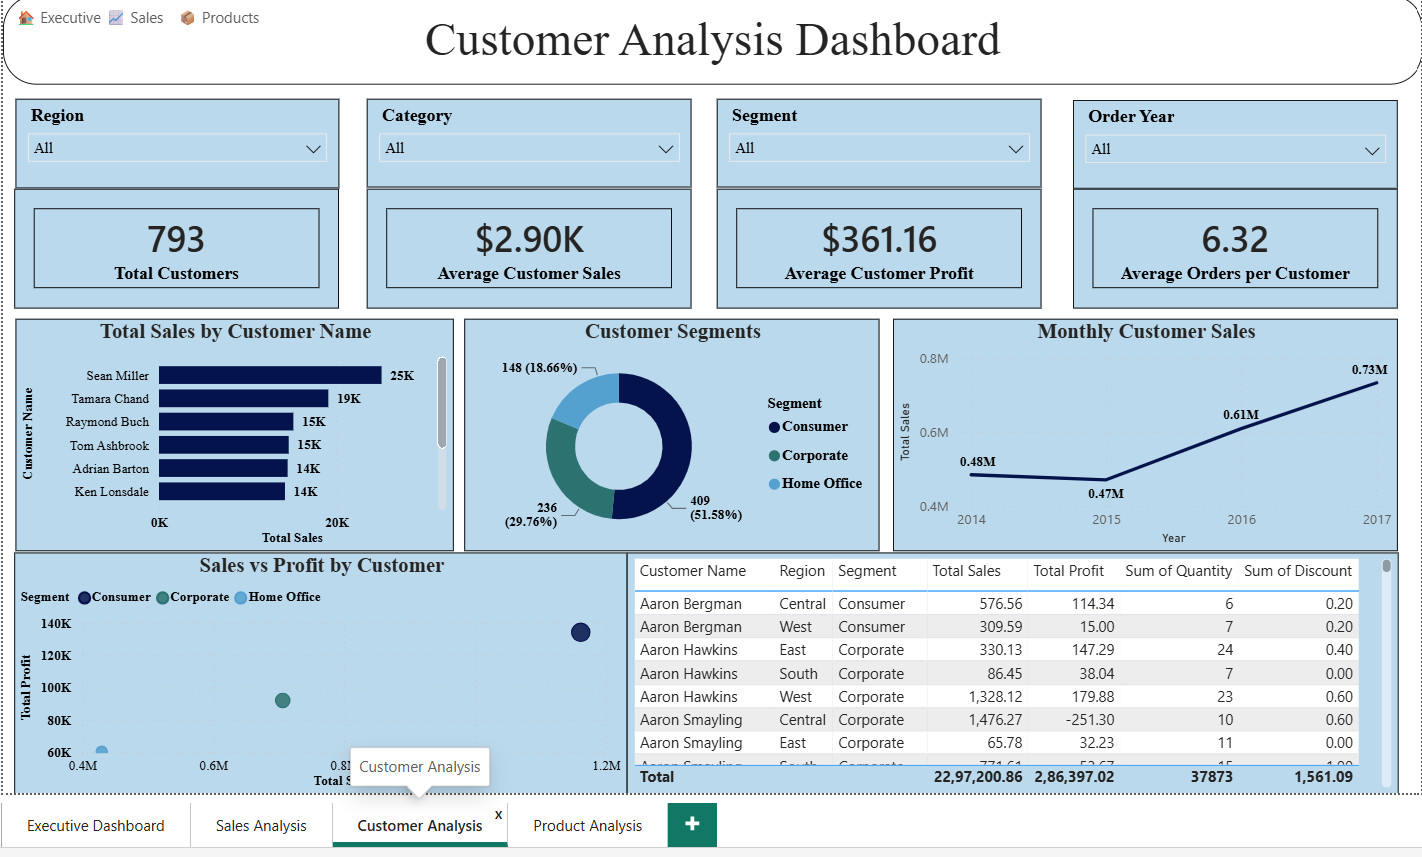

The dashboard page shown, as its layout file describes it:
{"tool":"powerbi","page":{"name":"Customer Analysis","canvas":[1280,720],"ordinal":2},"visuals":[{"type":"textbox","box":[0,0,1280.4,81.2],"z":0},{"type":"slicer","fields":{"Values":["processed_superstore.Region"]},"box":[11.3,93.6,291.9,81.2],"z":1000},{"type":"slicer","fields":{"Values":["processed_superstore.Category"]},"box":[328,93.6,293.1,80],"z":2000},{"type":"slicer","fields":{"Values":["processed_superstore.Segment"]},"box":[643.6,93.6,293.1,80],"z":3000},{"type":"slicer","fields":{"Values":["processed_superstore.Order Year"]},"box":[964.8,94.7,293.1,80],"z":4000},{"type":"cardVisual","fields":{"Data":["processed_superstore.Total Customers"]},"box":[10.5,174.4,293,108.1],"z":5000},{"type":"cardVisual","fields":{"Data":["processed_superstore.Average Customer Sales"]},"box":[328,174.7,293.1,108.2],"z":6000},{"type":"cardVisual","fields":{"Data":["processed_superstore.Average Customer Profit"]},"box":[643.6,174.7,293.1,108.2],"z":7000},{"type":"cardVisual","fields":{"Data":["processed_superstore.Average Orders per Customer"]},"box":[964.8,174.7,293.1,108.2],"z":8000},{"type":"clusteredBarChart","fields":{"Category":["processed_superstore.Customer Name"],"Y":["processed_superstore.Total Sales"]},"box":[11,292.3,395.2,209.9],"z":9000},{"type":"donutChart","title":"Customer Segments","fields":{"Category":["processed_superstore.Segment"],"Y":["Count(processed_superstore.Customer ID)"]},"box":[415.8,292.3,374.6,209.9],"z":10000},{"type":"lineChart","title":"Monthly Customer Sales","fields":{"Category":["processed_superstore.Order Date.Variation.Date Hierarchy.Year","processed_superstore.Order Date.Variation.Date Hierarchy.Month"],"Y":["processed_superstore.Total Sales"]},"box":[802.7,292.3,455.6,209.9],"z":11000},{"type":"scatterChart","title":"Sales vs Profit by Customer","fields":{"X":["processed_superstore.Total Sales"],"Y":["processed_superstore.Total Profit"],"Series":["processed_superstore.Segment"],"Size":["Sum(processed_superstore.Quantity)"]},"box":[9.6,502.2,553,218.2],"z":12000},{"type":"tableEx","fields":{"Values":["processed_superstore.Customer Name","processed_superstore.Region","processed_superstore.Segment","processed_superstore.Total Sales","processed_superstore.Total Profit","Sum(processed_superstore.Quantity)","Sum(processed_superstore.Discount)"]},"box":[562.6,502.2,695.7,218.2],"z":13000},{"type":"actionButton","box":[0,0,100,40],"z":14000},{"type":"actionButton","box":[69.1,0,100,39.7],"z":15000},{"type":"actionButton","box":[144.1,0,100,39.7],"z":16000}]}

Visuals, with their boxes on the page's 1280x720 design canvas (x1, y1, x2, y2). These are canvas units, not pixel positions in the 1422x857 screenshot, which may show the page scaled, cropped or inside an application window:
textbox: bbox=(0, 0, 1280, 81)
slicer - processed_superstore.Region: bbox=(11, 94, 303, 175)
slicer - processed_superstore.Category: bbox=(328, 94, 621, 174)
slicer - processed_superstore.Segment: bbox=(644, 94, 937, 174)
slicer - processed_superstore.Order Year: bbox=(965, 95, 1258, 175)
cardVisual - processed_superstore.Total Customers: bbox=(10, 174, 304, 282)
cardVisual - processed_superstore.Average Customer Sales: bbox=(328, 175, 621, 283)
cardVisual - processed_superstore.Average Customer Profit: bbox=(644, 175, 937, 283)
cardVisual - processed_superstore.Average Orders per Customer: bbox=(965, 175, 1258, 283)
clusteredBarChart - processed_superstore.Customer Name x processed_superstore.Total Sales: bbox=(11, 292, 406, 502)
"Customer Segments" donutChart: bbox=(416, 292, 790, 502)
"Monthly Customer Sales" lineChart: bbox=(803, 292, 1258, 502)
"Sales vs Profit by Customer" scatterChart: bbox=(10, 502, 563, 720)
tableEx - processed_superstore.Customer Name x processed_superstore.Region: bbox=(563, 502, 1258, 720)
actionButton: bbox=(0, 0, 100, 40)
actionButton: bbox=(69, 0, 169, 40)
actionButton: bbox=(144, 0, 244, 40)
